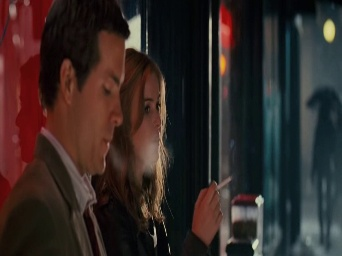smoke: (212, 175, 233, 193)
